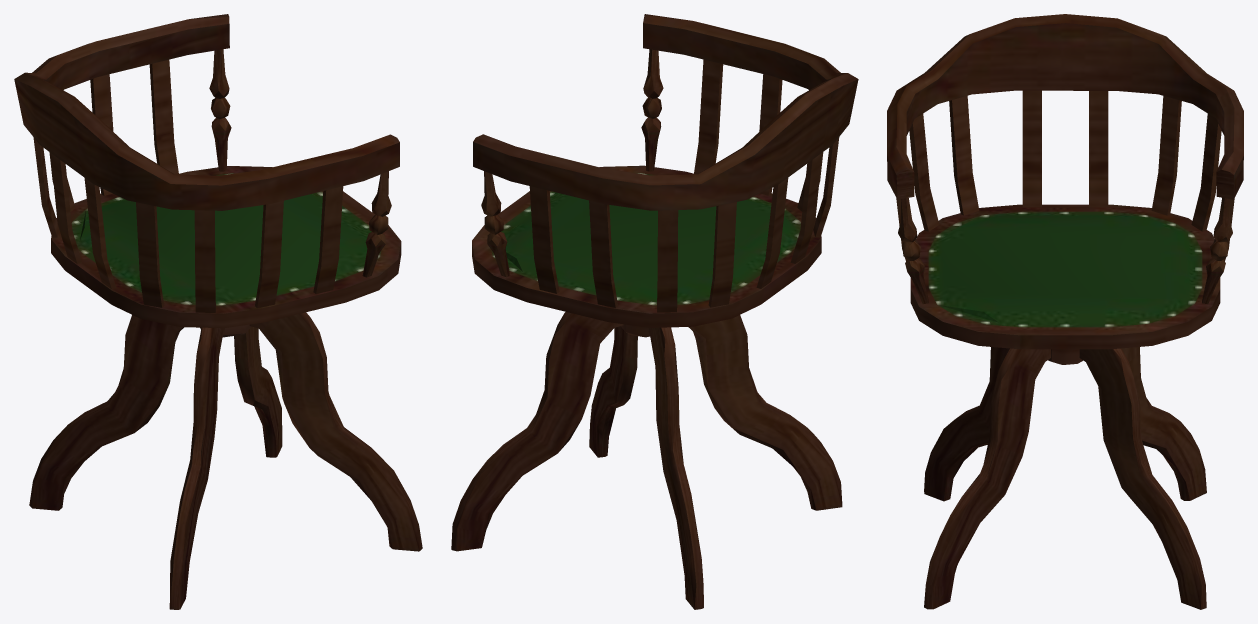
The model's file is chair-desk-victorian.lod1.glb.
3 renders of one model, left to right at view 1: azimuth 30°, elevation 25°; view 2: azimuth 150°, elevation 25°; view 3: azimuth 270°, elevation 25°, orthographic. The views are drawn at different scales.
Visible parts, largest first — view 1: chair-desk-victorian; view 2: chair-desk-victorian; view 3: chair-desk-victorian.
Part boxes in pixels (bbox=[...]): chair-desk-victorian: bbox=[14, 14, 422, 609]; chair-desk-victorian: bbox=[451, 14, 858, 609]; chair-desk-victorian: bbox=[887, 14, 1243, 609].
Size of the model in its own units: 0.5562 by 0.821 by 0.5768.
Materials: 1 (1 with a texture image).
